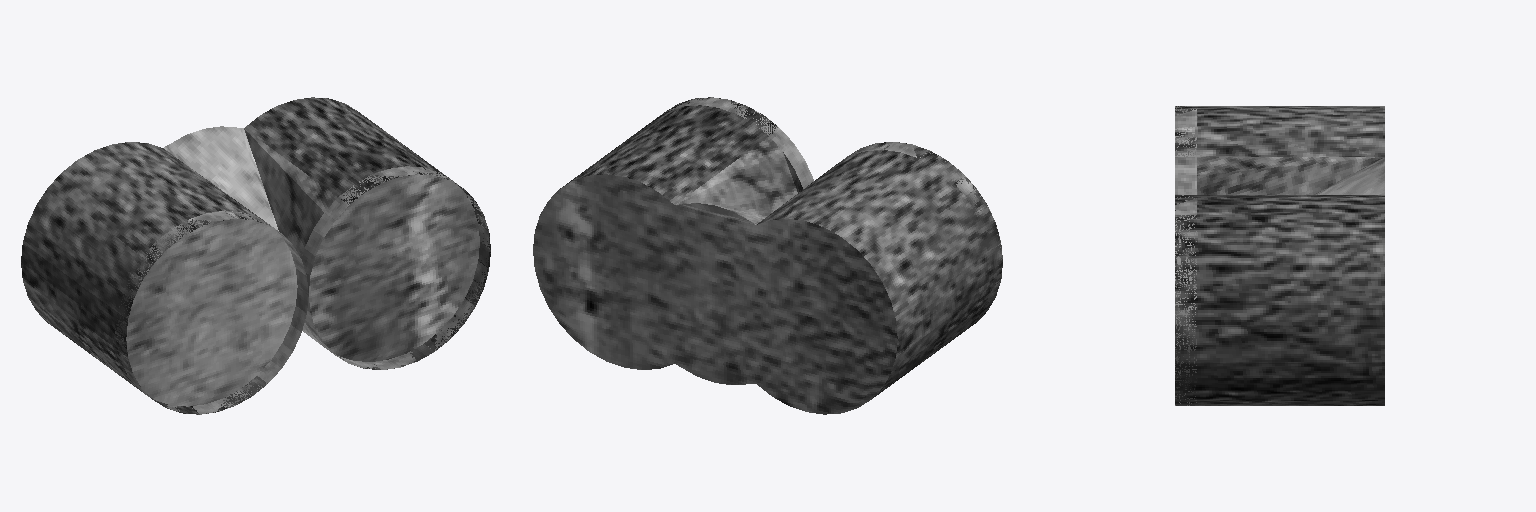
The picture shows the model from 3 angles: view 1: azimuth 30°, elevation 25°; view 2: azimuth 150°, elevation 25°; view 3: azimuth 270°, elevation 25°; orthographic projection.
Visible parts, largest first — view 1: Cone; view 2: Cone; view 3: Cone.
Boxes of the visible parts, <box> form: Cone: <box>21,97,490,414</box>; Cone: <box>533,97,1002,414</box>; Cone: <box>1175,106,1384,405</box>.
Size of the model in its own units: 4 by 2 by 2.
Materials: 2 (1 with a texture image).